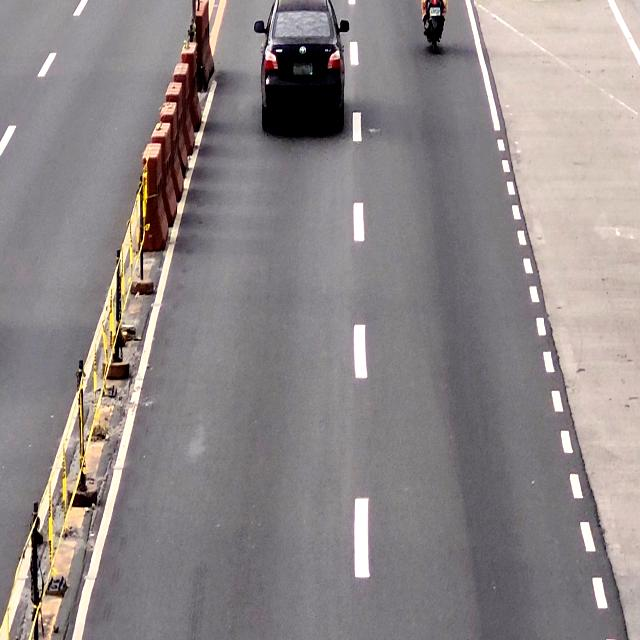Car: (263, 0, 339, 124)
